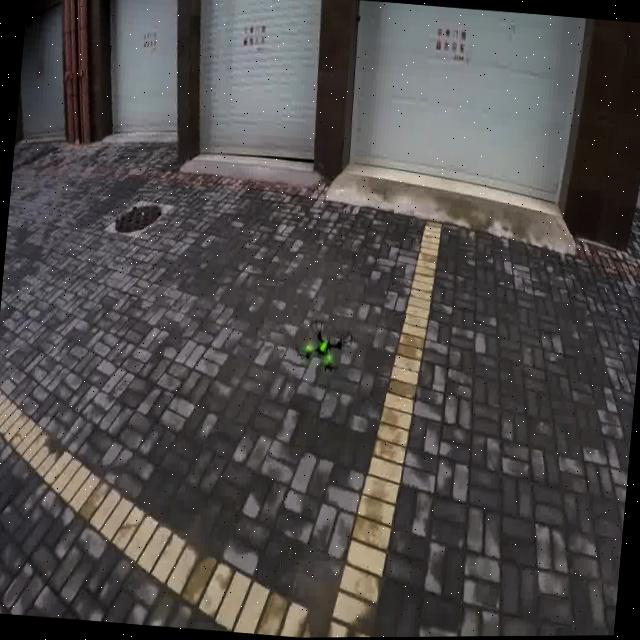drone: (293, 312, 357, 376)
